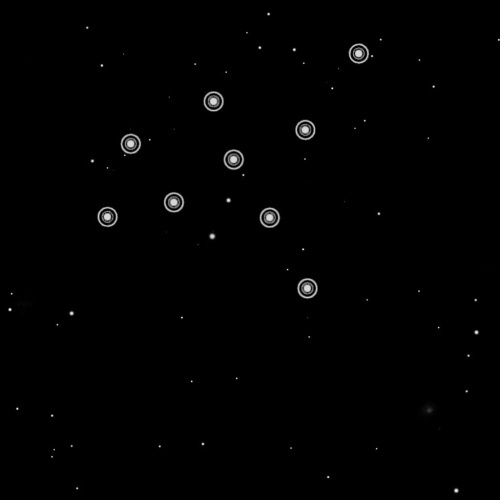cygnus: (90, 36, 374, 307)
